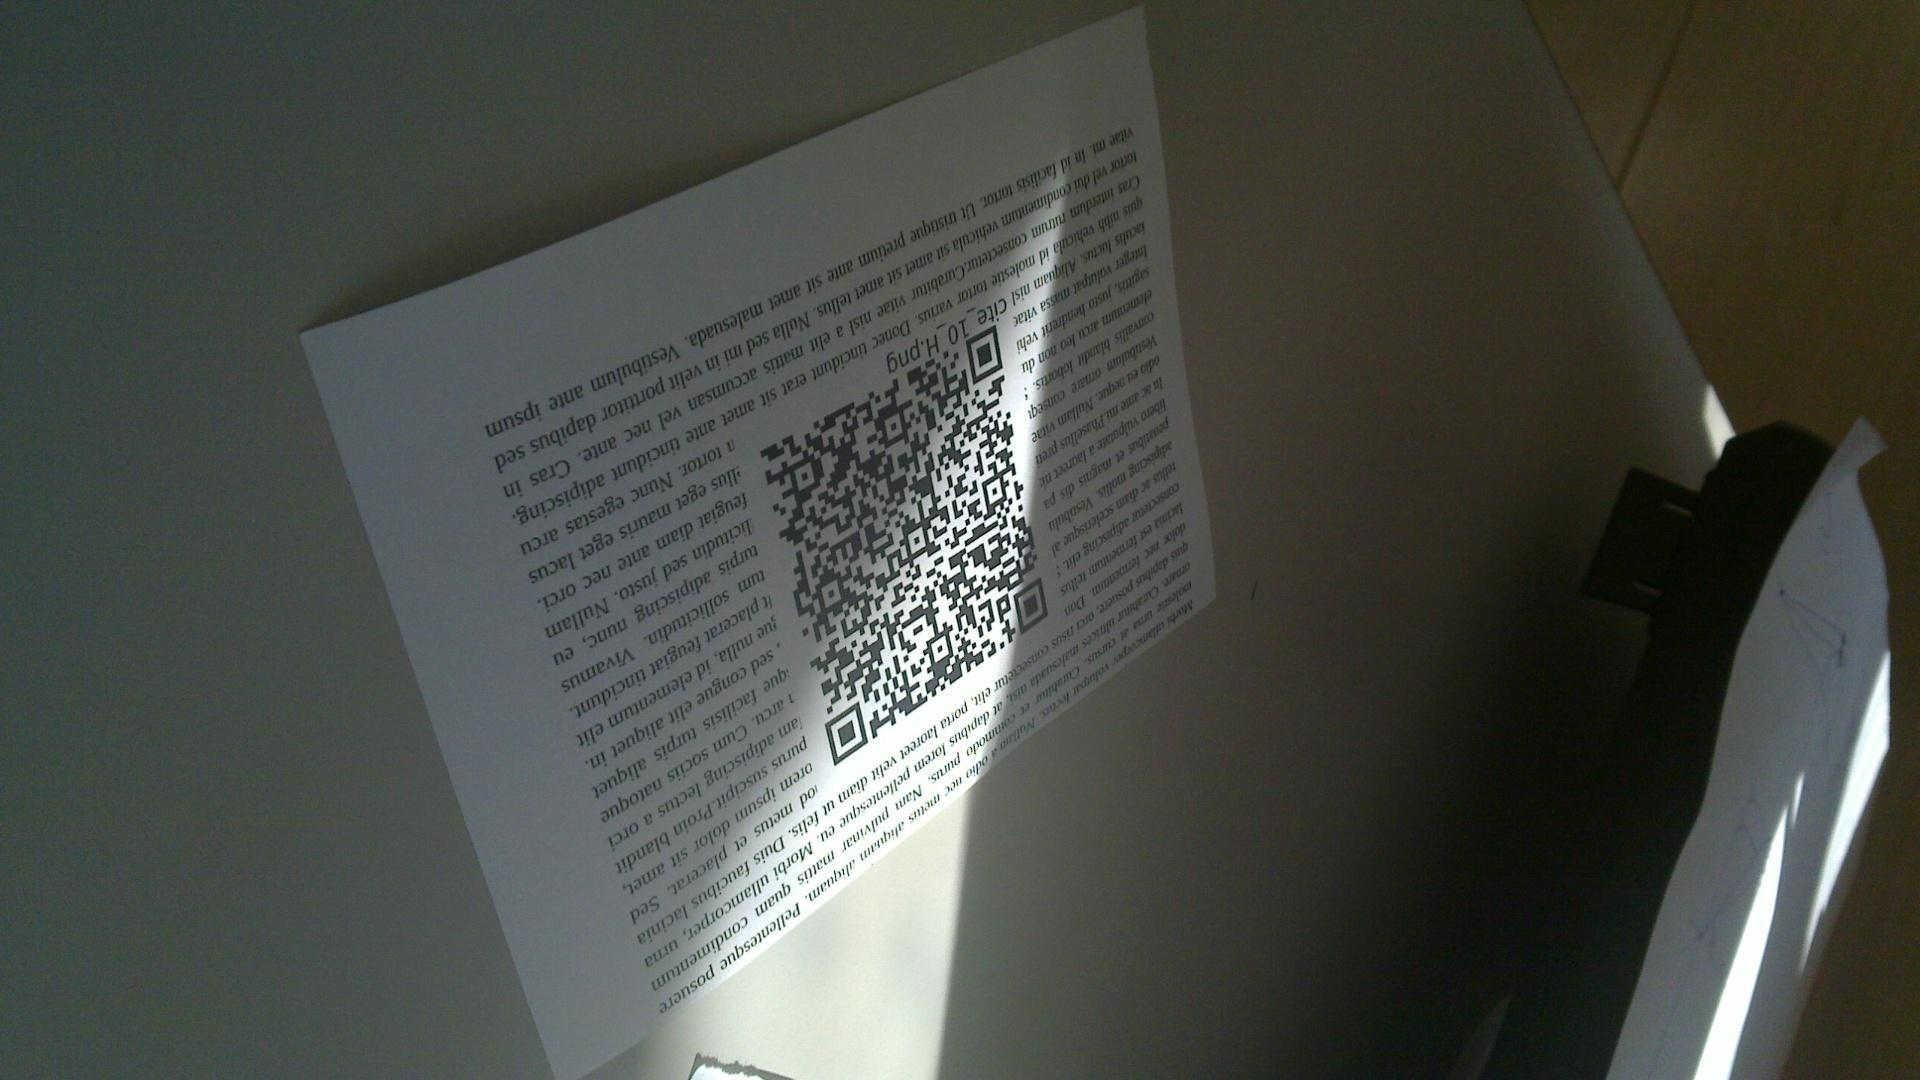Finder pattern: (822, 702, 869, 766), (1013, 572, 1050, 636), (965, 324, 1004, 382)
